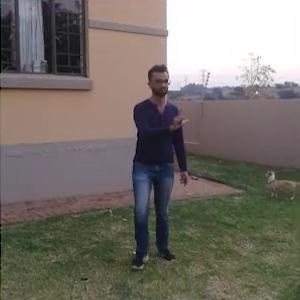land_hand: (166, 104, 190, 135)
